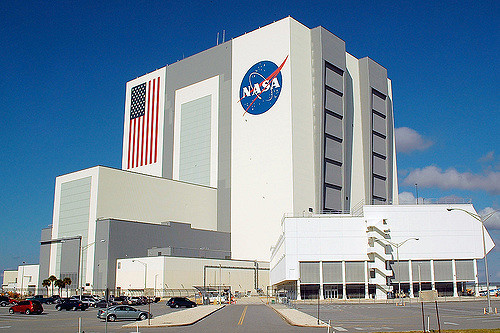NASA: (236, 52, 288, 121)
